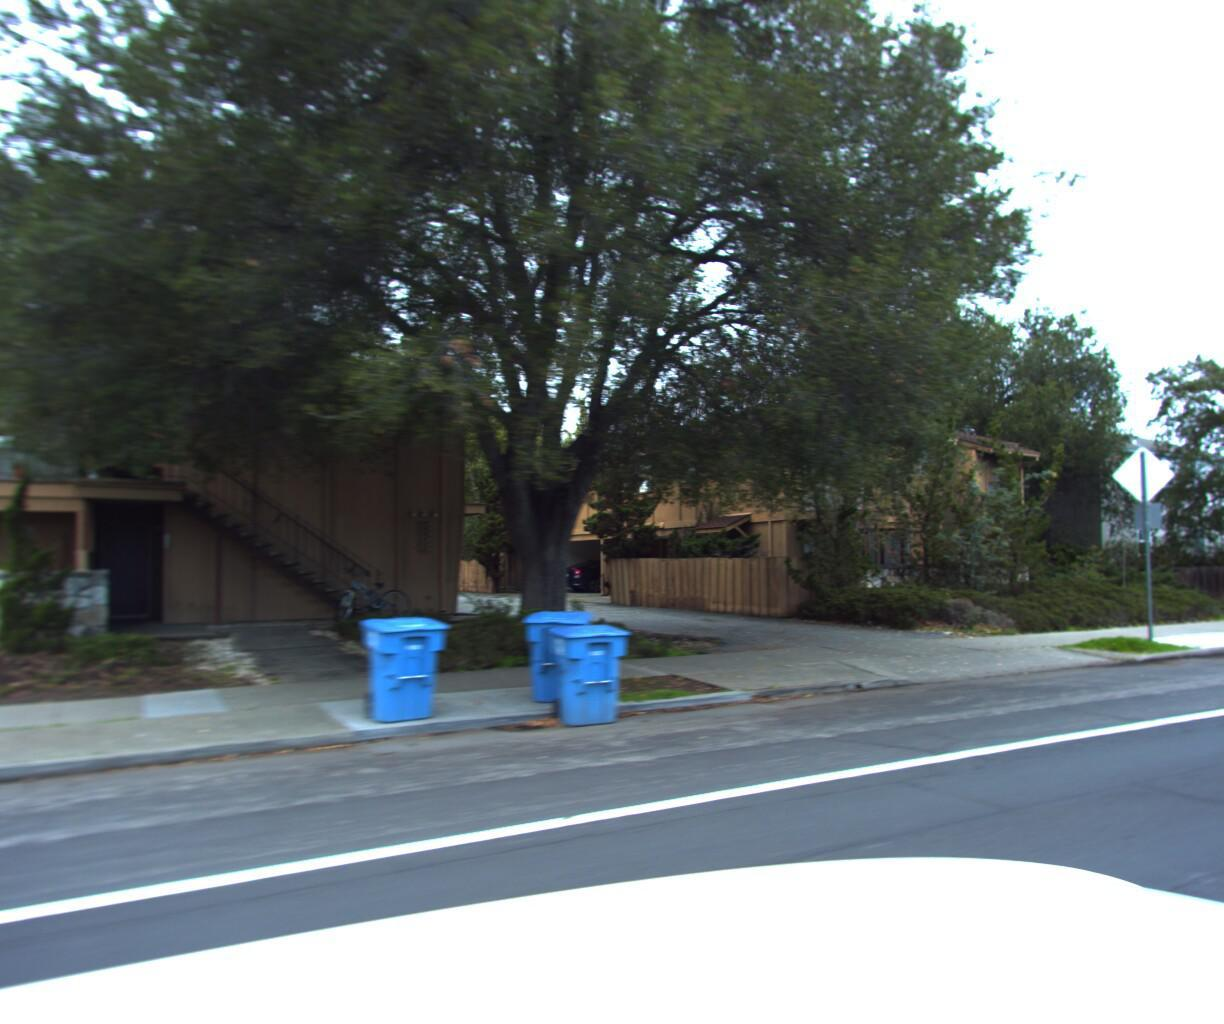car: (557, 554, 668, 595)
